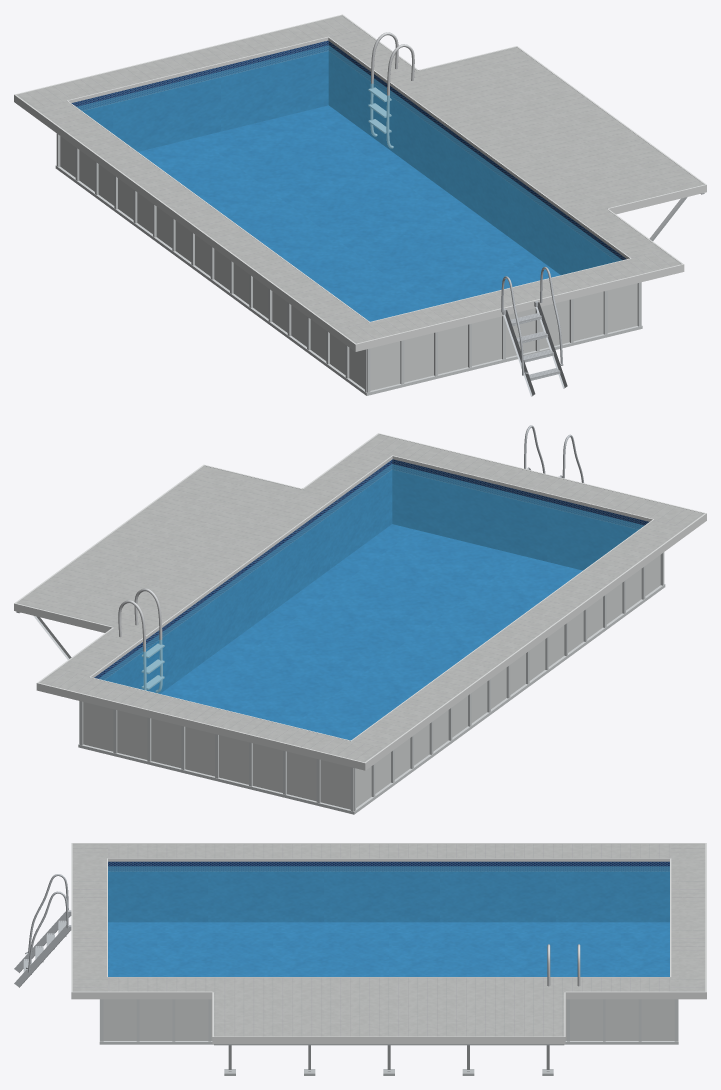
Rendered from kayak-pool-16x32-white-t-ag-nofence.5e4bc26021.glb.
3 renders of one model, top to bottom at view 1: azimuth 30°, elevation 25°; view 2: azimuth 150°, elevation 25°; view 3: azimuth 270°, elevation 25°, orthographic. The views are drawn at different scales.
Parts seen in each view (by area): view 1: water, deck, liner_floor, liner_wall, wall, fascia, upright, ladder, steel; view 2: water, deck, liner_floor, liner_wall, wall, fascia, upright, steel; view 3: water, deck, liner_wall, liner_floor, fascia, wall, upright, ladder, stud.
Boxes of the visible parts, x1,y1,x2,y2 form: water: [77, 45, 621, 321]; deck: [17, 15, 703, 343]; liner_floor: [138, 105, 560, 321]; liner_wall: [71, 40, 626, 274]; wall: [60, 136, 637, 390]; fascia: [14, 14, 706, 351]; upright: [55, 133, 642, 395]; ladder: [501, 267, 567, 396]; steel: [368, 32, 414, 148]; water: [99, 464, 644, 740]; deck: [17, 434, 703, 762]; liner_floor: [160, 524, 582, 740]; liner_wall: [94, 459, 649, 693]; wall: [83, 555, 660, 809]; fascia: [14, 433, 706, 770]; upright: [78, 552, 665, 814]; steel: [118, 588, 164, 692]; water: [108, 866, 669, 976]; deck: [72, 844, 705, 1036]; liner_wall: [108, 861, 669, 922]; liner_floor: [108, 922, 669, 976]; fascia: [71, 843, 706, 1043]; wall: [103, 999, 674, 1040]; upright: [99, 999, 678, 1044]; ladder: [14, 874, 71, 987]; stud: [214, 1044, 564, 1075].
Bounding box in the file's own units: 7.93 × 1.9 × 11.96.
Materials: 10 (3 with a texture image).
